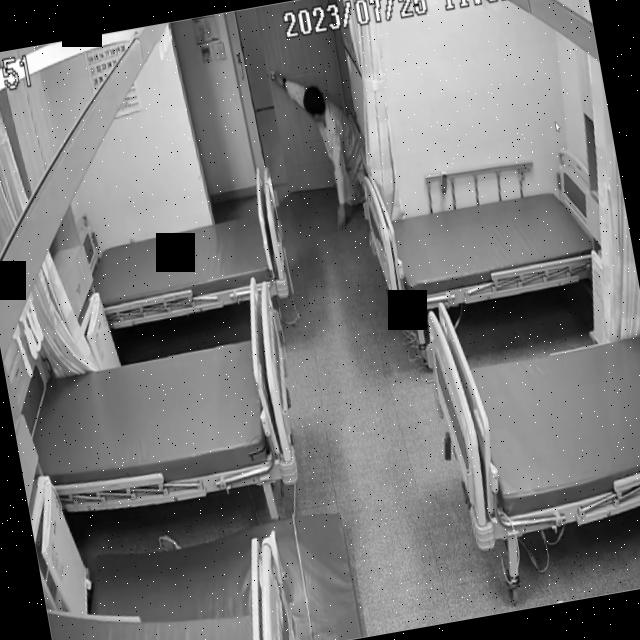bed: (419, 268, 640, 547), (19, 325, 304, 521), (362, 163, 614, 321), (86, 199, 289, 328)
danger: (276, 66, 377, 240)
patient: (276, 64, 376, 238)
